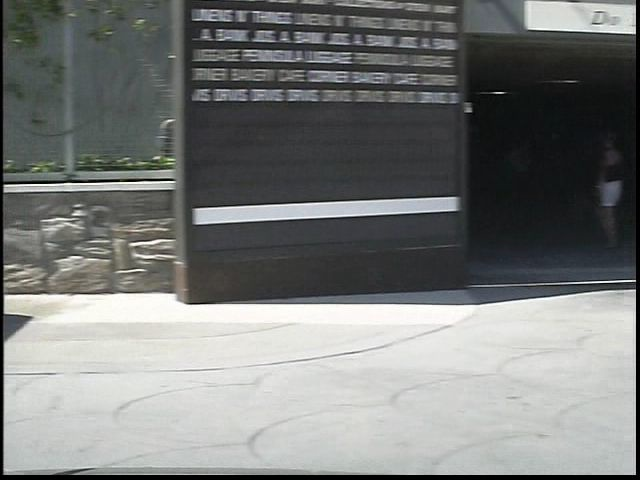person: (564, 125, 618, 255)
